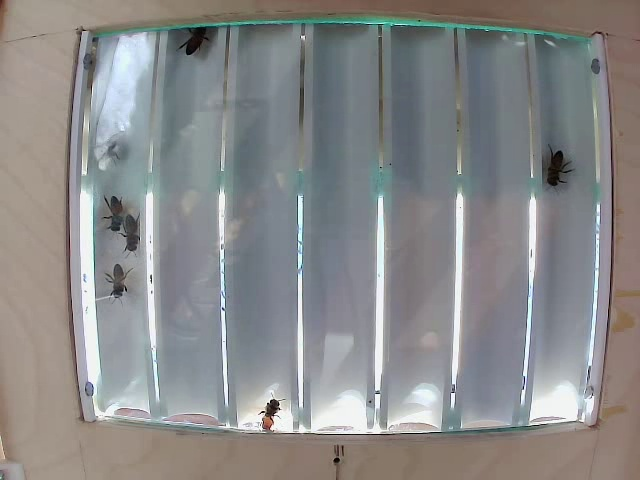bee: (99, 255, 136, 306), (120, 216, 147, 262), (92, 189, 124, 227), (541, 145, 570, 183)
